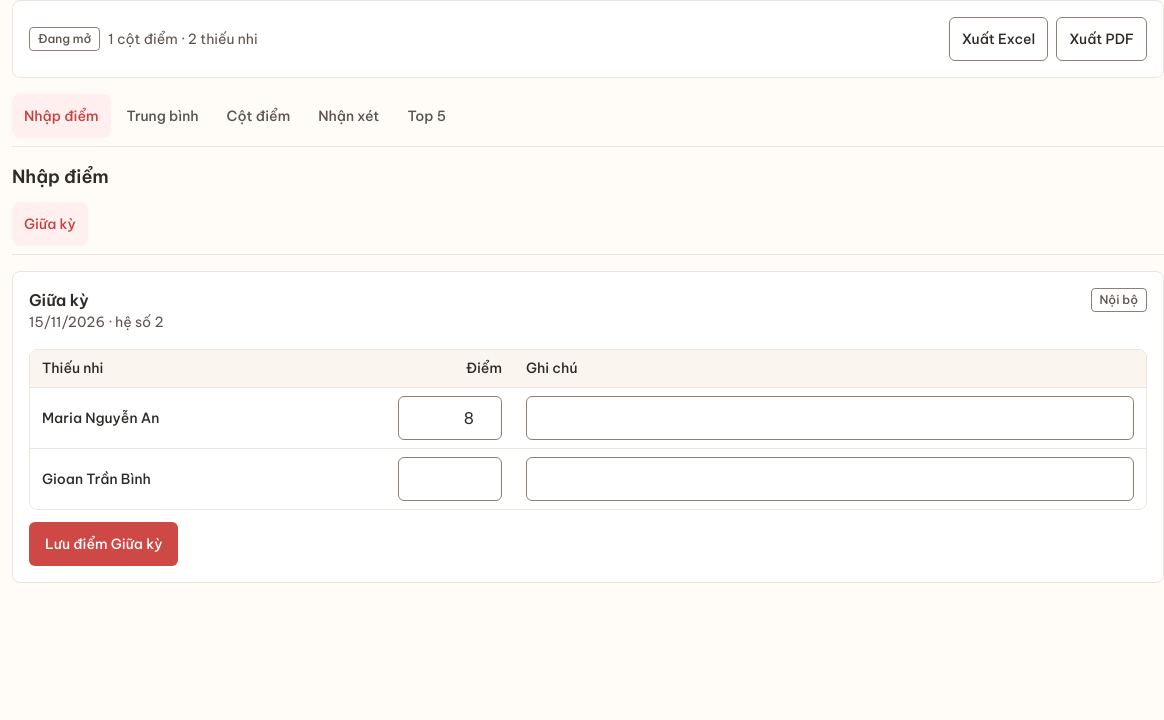
Scenario: gradebook editor › bấm Lưu khi không sửa gì thì KHÔNG gọi máy chủ và nói thẳng ra điều đó
Step 1. Click the button "Lưu điểm Giữa kỳ" → (104, 544), box [29,522,178,566]
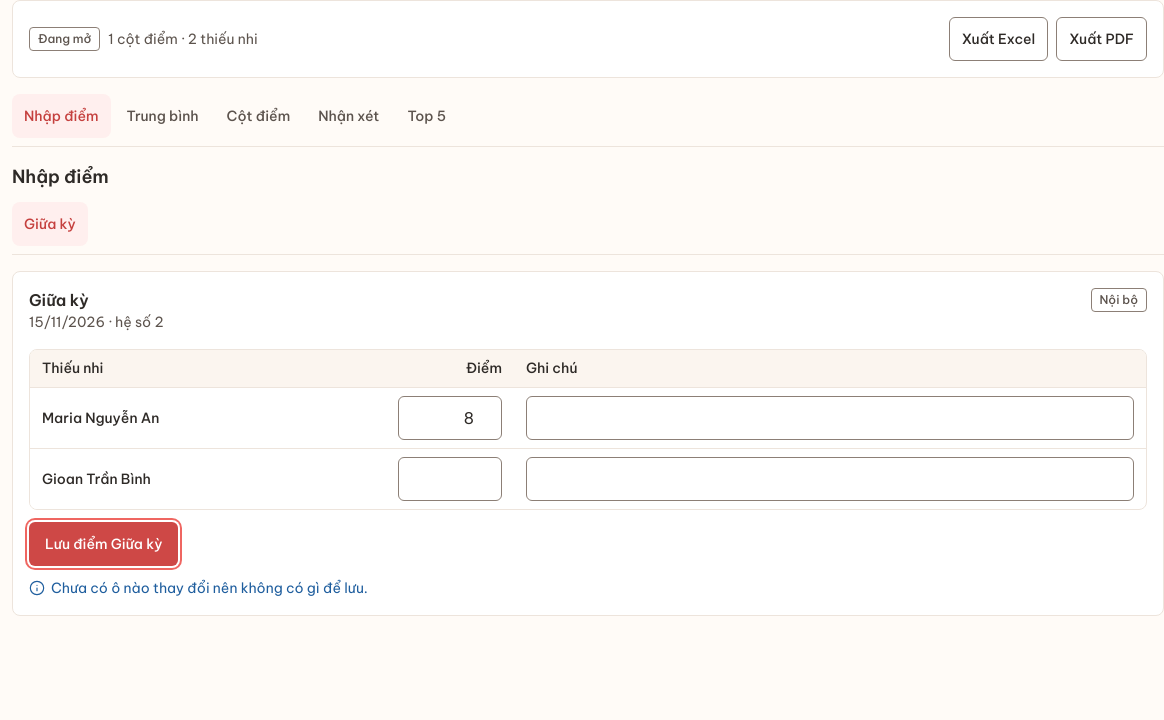
Expected: the text "Chưa có ô nào thay đổi nên không có gì để lưu." is shown, [51,578,368,599]
